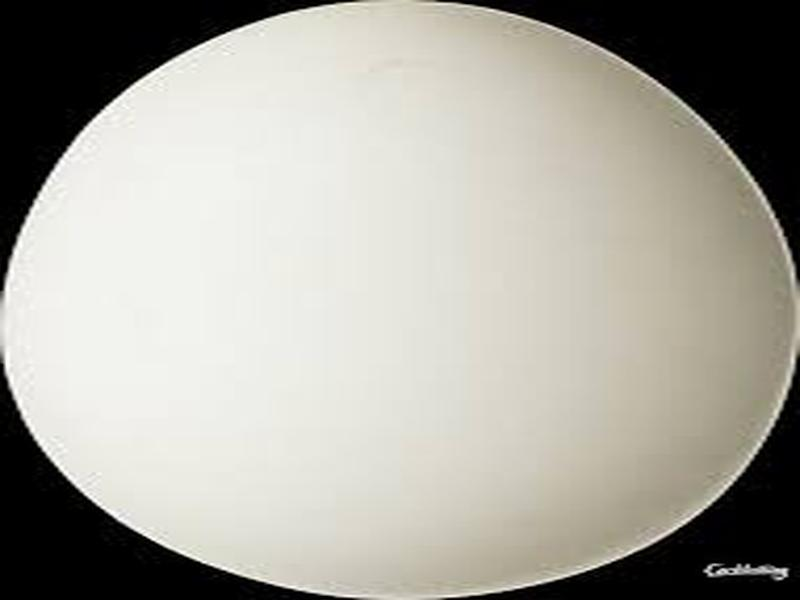egg: (17, 24, 785, 583)
